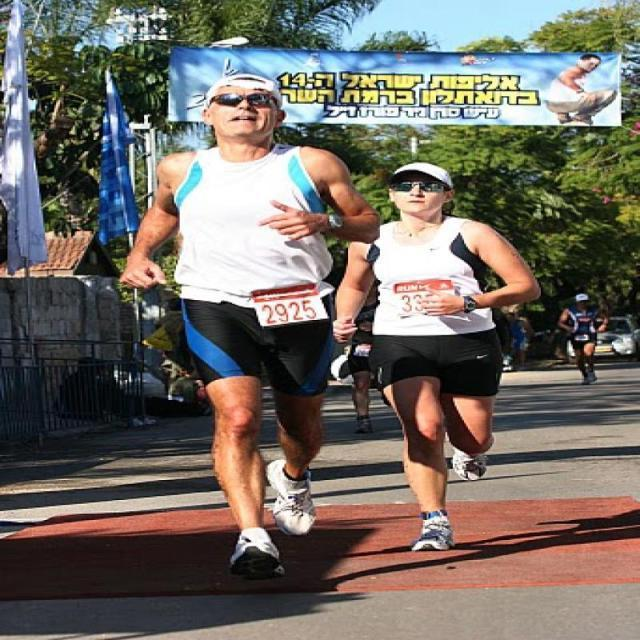dorsal: (246, 286, 342, 325), (390, 280, 454, 314)
